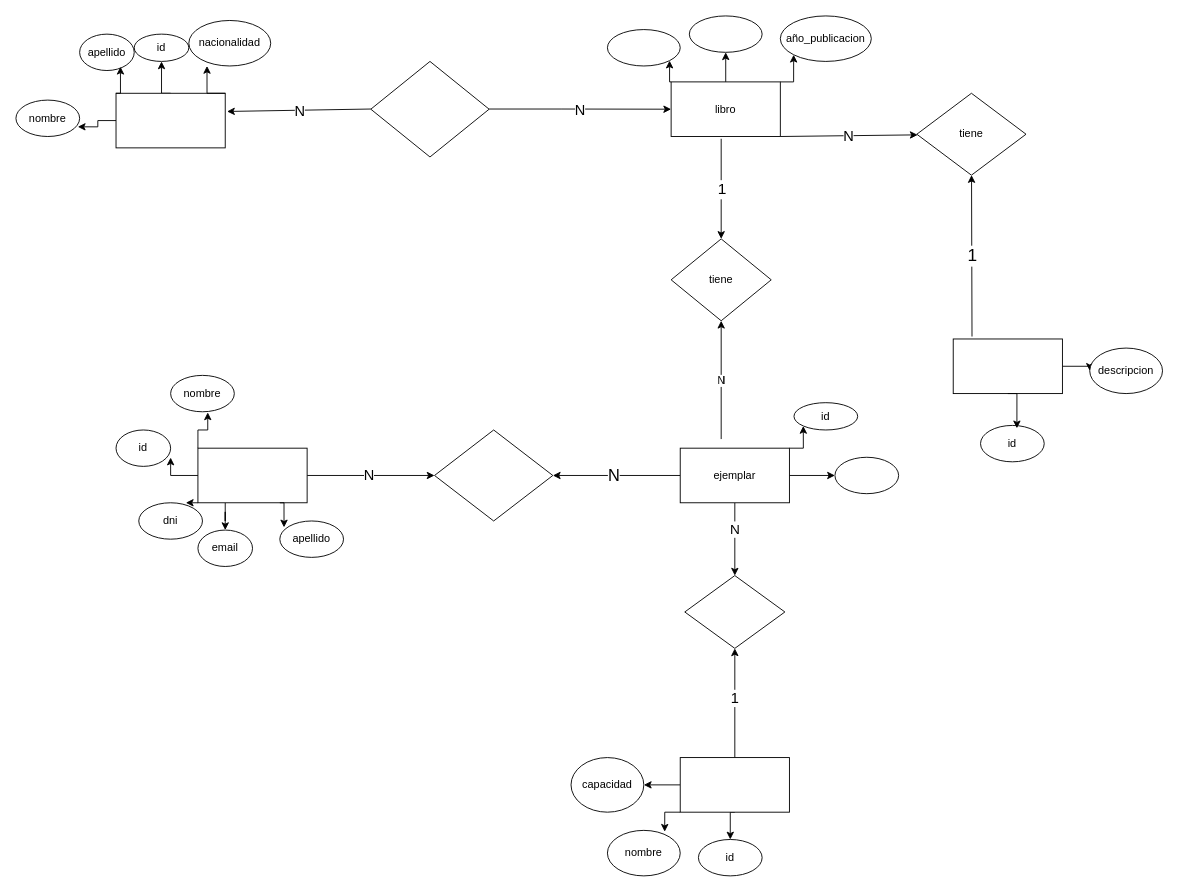
The diagram is 1178 pixels wide and 892 high, and some of its shapes have lost their labels. Each missing label, with the centre of its shape:
"autor" belongs at (x=170, y=120).
"esta" belongs at (x=734, y=611).
"estado" belongs at (x=866, y=475).
"genero" belongs at (x=1007, y=366).
"ISBN" belongs at (x=643, y=47).
"libros/autores" belongs at (x=429, y=109).
"prestamo" belongs at (x=493, y=475).
"sector" belongs at (x=734, y=784).
"titulo" belongs at (x=725, y=33).
"usuarios" belongs at (x=252, y=475).
